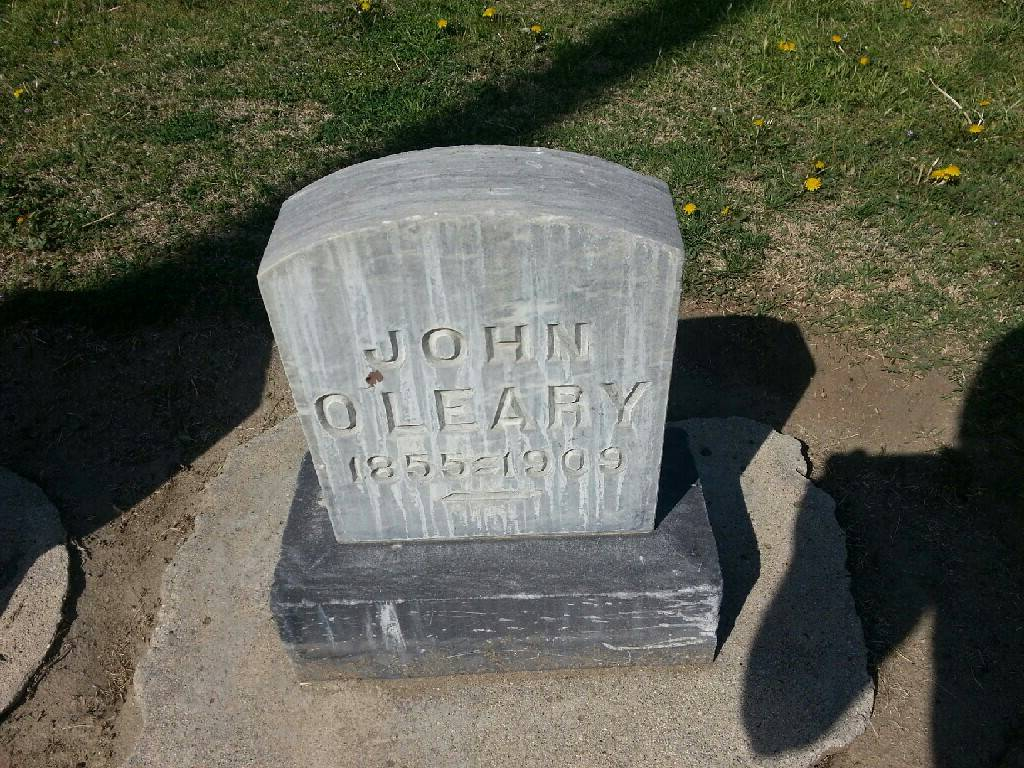upright: (257, 147, 723, 687)
